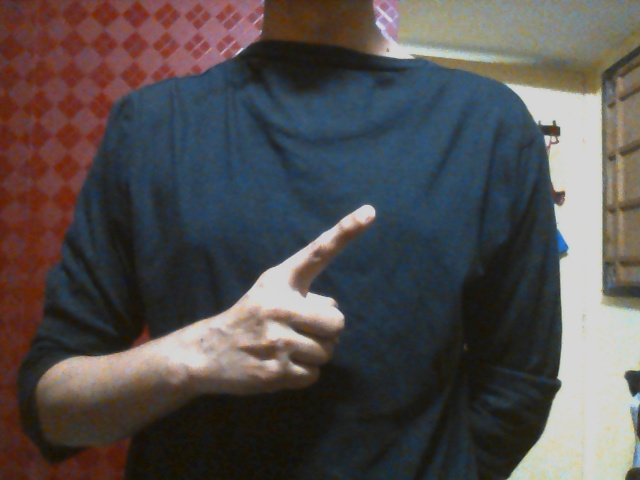I: (215, 203, 378, 400)
